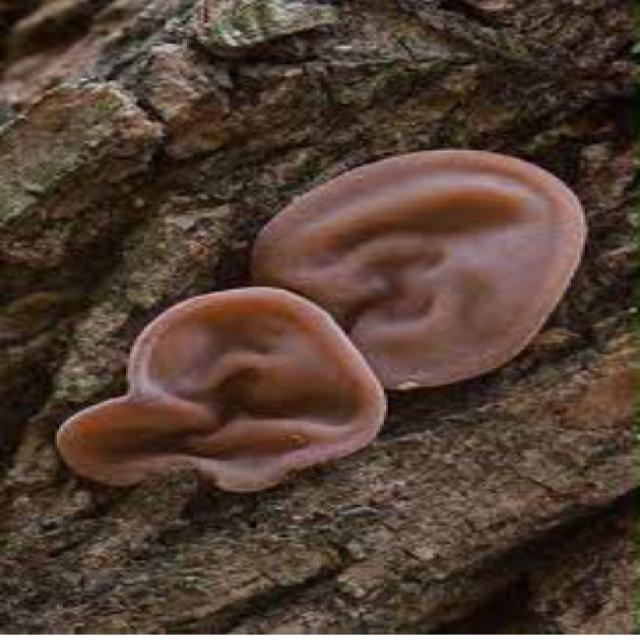Fase Muda: (250, 146, 588, 392), (50, 286, 392, 494)
